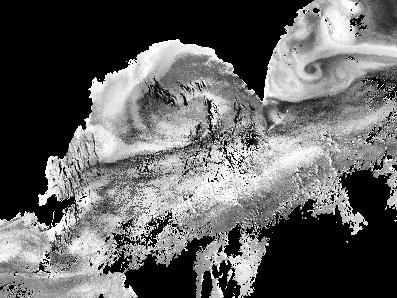CE: (295, 57, 328, 85)
